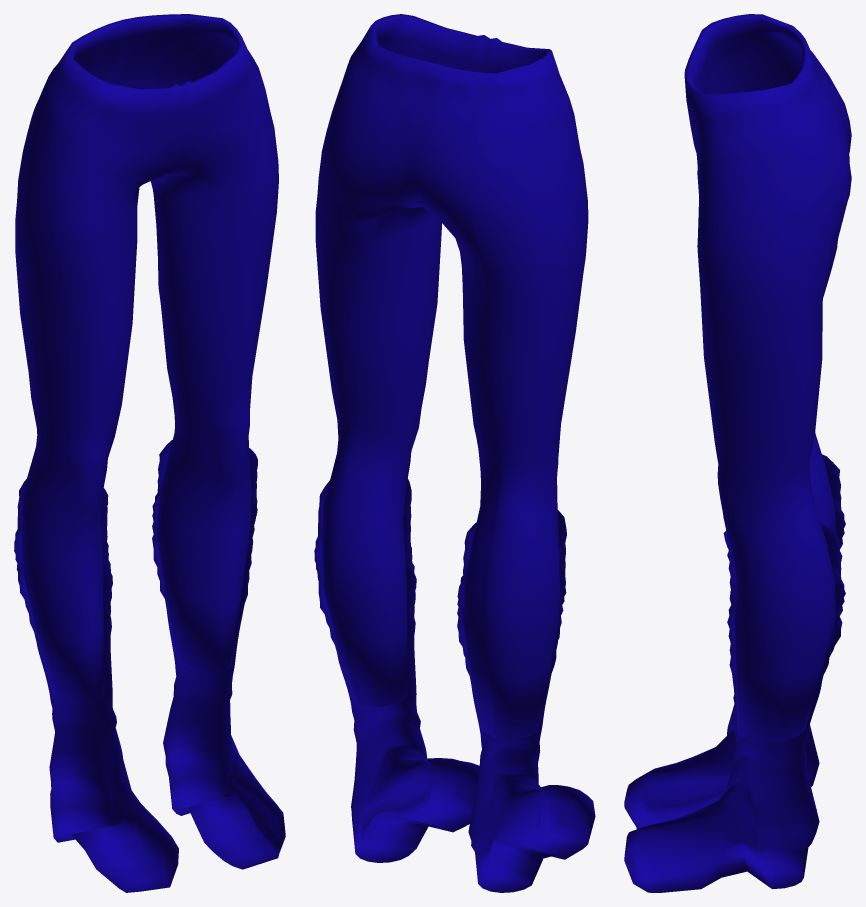
File: Capgirl_Shoes.fbx
The picture shows the model from 3 angles, left to right: view 1: azimuth 30°, elevation 25°; view 2: azimuth 150°, elevation 25°; view 3: azimuth 270°, elevation 25°; orthographic projection. The views are drawn at different scales.
Visible parts, largest first — view 1: CapPant; view 2: CapPant; view 3: CapPant.
Boxes of the visible parts, <box> form: CapPant: <box>14,14,285,892</box>; CapPant: <box>314,14,595,892</box>; CapPant: <box>624,14,851,892</box>.
Size of the model in its own units: 26.44 by 83.03 by 21.28.
